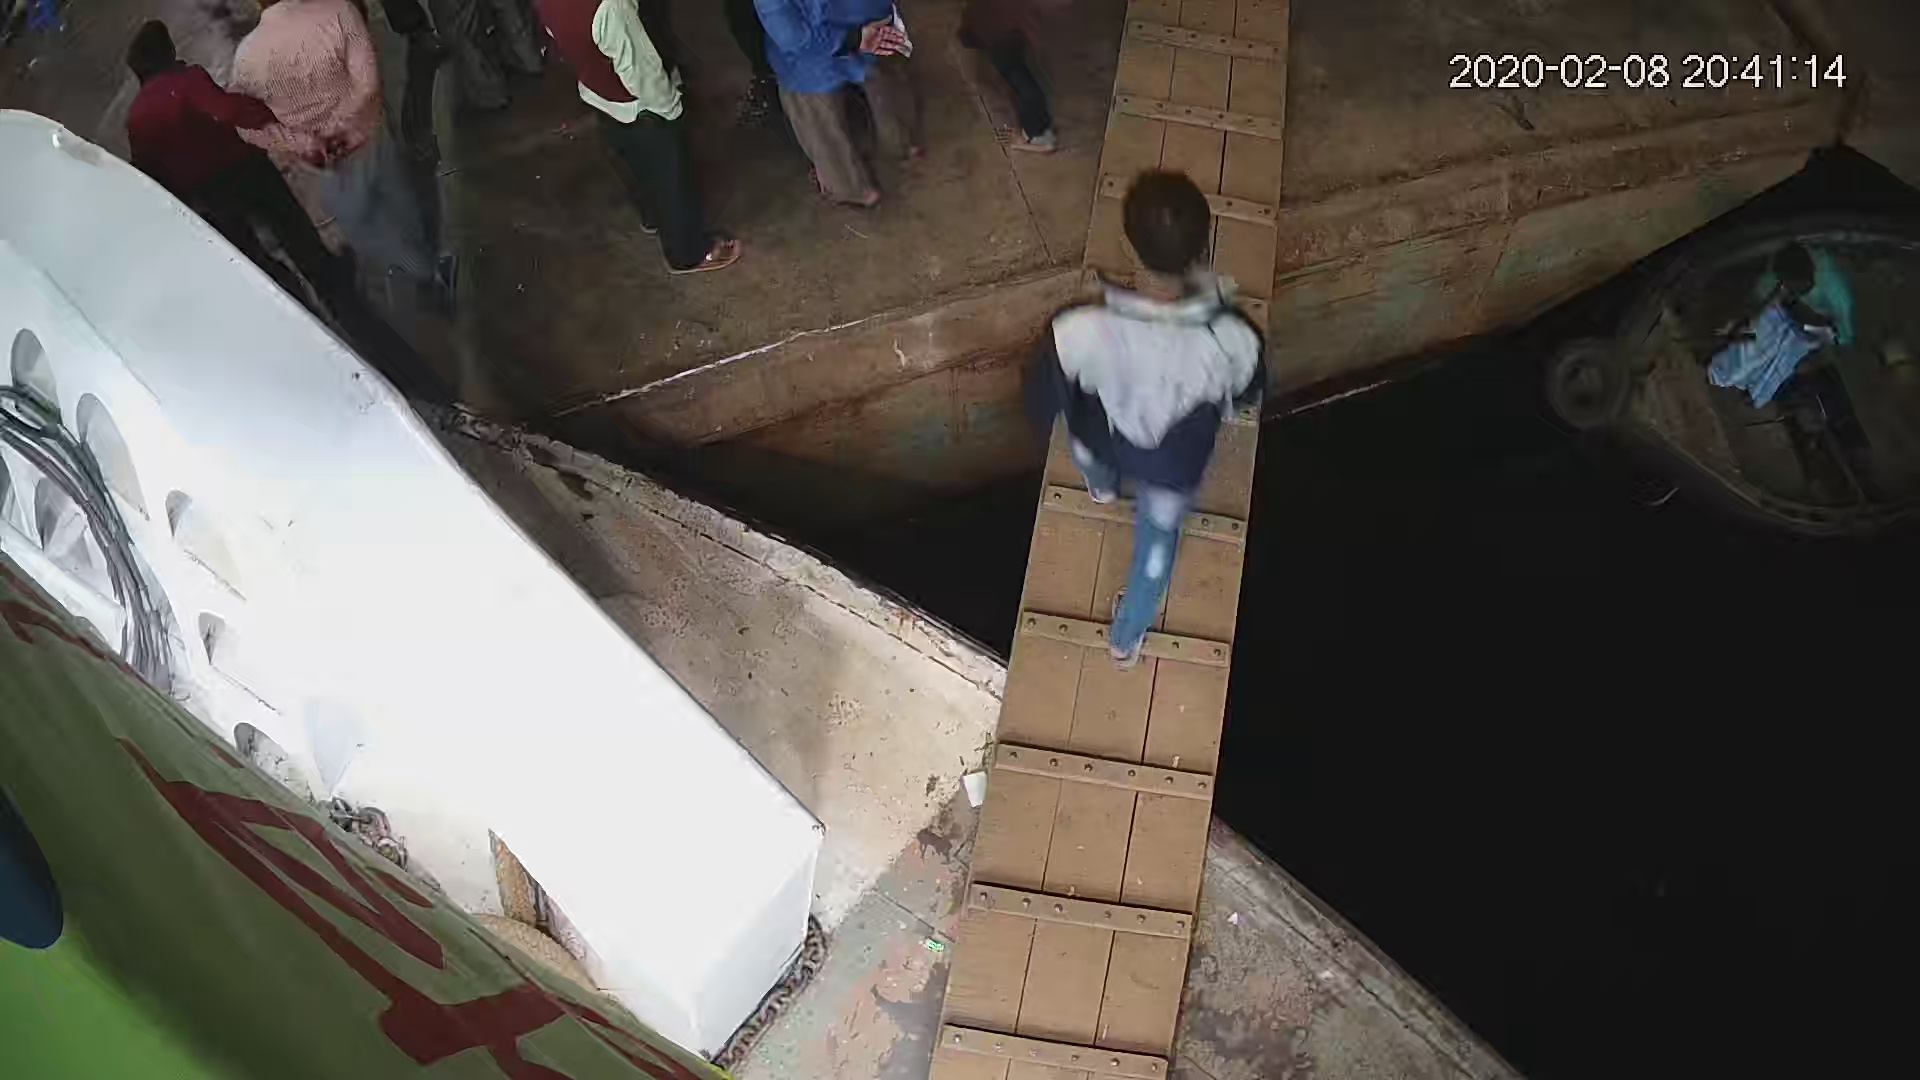person: (1035, 166, 1267, 670), (229, 1, 469, 313), (113, 26, 348, 299), (525, 5, 746, 282), (1698, 234, 1858, 411)
